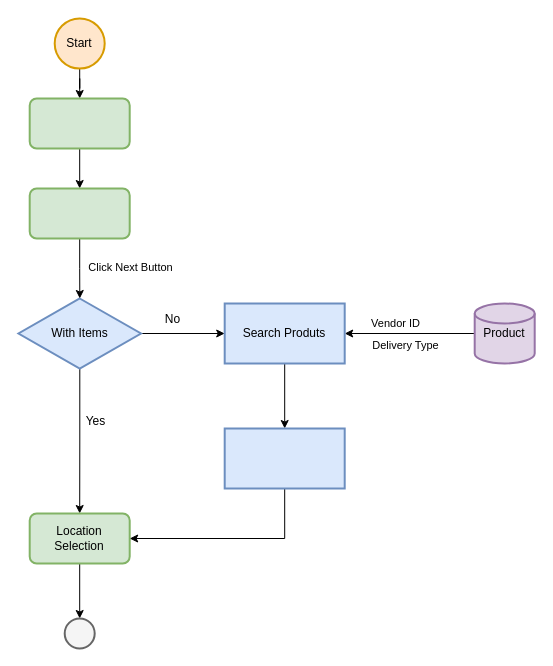
The diagram is 553 pixels wide and 666 high, and some of its shapes have lost their labels. Here are the shapes that lost their labels. From the top down, the centre of each, then its label:
the point at 79,123: Create QD Contract
the point at 79,213: Item Selection
the point at 284,458: Build Contract Location Structure
